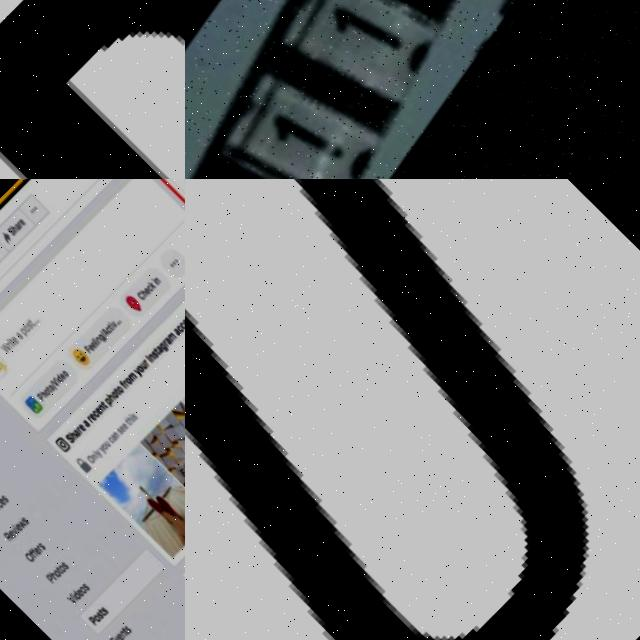1: (303, 0, 423, 88), (243, 89, 352, 179)
A: (11, 330, 21, 340), (160, 336, 169, 346), (11, 222, 20, 231), (68, 428, 77, 437), (78, 419, 87, 428), (152, 345, 161, 354), (170, 327, 179, 336), (97, 327, 106, 336), (105, 433, 114, 441)
C: (133, 290, 143, 300), (172, 324, 182, 334), (175, 321, 185, 330), (100, 325, 109, 334), (87, 409, 96, 418), (143, 284, 151, 293), (103, 436, 111, 443)
D: (0, 0, 185, 179), (65, 590, 76, 600), (50, 372, 60, 382)
E: (89, 406, 100, 416), (8, 522, 18, 532), (73, 422, 83, 432), (84, 412, 94, 422), (2, 529, 11, 538), (27, 546, 36, 555), (86, 340, 95, 349), (117, 422, 126, 431), (7, 336, 17, 344), (70, 588, 78, 597), (55, 372, 63, 381), (114, 424, 122, 433), (110, 632, 118, 640), (16, 218, 24, 226), (84, 344, 92, 352), (140, 287, 148, 295), (102, 636, 112, 640)
F: (79, 344, 89, 354), (114, 380, 124, 390), (22, 549, 32, 558), (24, 548, 33, 556)
G: (155, 342, 166, 352), (94, 333, 103, 342)
H: (101, 392, 112, 402), (64, 430, 74, 440), (44, 570, 53, 579), (35, 389, 44, 398), (8, 224, 16, 232), (137, 288, 145, 296), (122, 416, 130, 424)
I: (2, 338, 11, 347), (64, 592, 72, 602), (6, 524, 15, 532), (88, 336, 97, 344), (141, 354, 149, 363), (49, 376, 56, 383), (124, 414, 131, 421), (104, 322, 112, 328), (148, 278, 155, 284)
K: (144, 280, 152, 288)
L: (87, 338, 95, 345), (88, 450, 95, 458)
M: (164, 332, 174, 342), (124, 372, 133, 381)
N: (144, 353, 153, 362), (91, 336, 100, 344), (94, 403, 102, 412), (113, 630, 121, 638), (86, 453, 94, 460), (151, 276, 158, 283), (108, 432, 115, 438)
O: (18, 551, 30, 562), (18, 323, 29, 333), (81, 454, 92, 464), (120, 376, 130, 386), (132, 364, 142, 374), (106, 389, 116, 398), (47, 568, 56, 577), (43, 383, 52, 392), (57, 368, 65, 378), (112, 384, 120, 394), (52, 564, 61, 572), (73, 585, 81, 594), (87, 613, 95, 622), (39, 388, 47, 397), (178, 317, 185, 327), (97, 442, 105, 450)
P: (31, 391, 42, 402), (39, 574, 49, 584), (82, 616, 92, 626), (16, 327, 26, 337), (100, 396, 110, 406)
R: (83, 414, 91, 424), (117, 380, 126, 388), (158, 339, 166, 348), (0, 531, 7, 541), (14, 220, 22, 228), (71, 426, 79, 434), (139, 359, 147, 367), (31, 544, 38, 552), (2, 342, 10, 349)
S: (60, 433, 72, 444), (146, 349, 157, 359), (32, 541, 41, 550), (55, 560, 63, 570), (76, 582, 84, 592), (90, 610, 98, 620), (118, 624, 126, 634), (5, 227, 13, 236), (22, 321, 31, 329), (126, 412, 135, 420), (16, 516, 24, 524), (95, 606, 103, 614), (0, 494, 4, 503), (113, 428, 119, 434)
T: (4, 337, 14, 346), (23, 318, 33, 327), (149, 346, 158, 356), (49, 565, 58, 574), (102, 322, 111, 330), (96, 399, 104, 408), (109, 387, 117, 396), (92, 608, 100, 616), (41, 385, 49, 393), (120, 418, 128, 426), (115, 627, 123, 634)
U: (185, 179, 640, 640), (136, 361, 144, 370), (181, 314, 185, 323), (100, 441, 106, 447)
V: (60, 594, 71, 604), (46, 377, 57, 387), (5, 526, 13, 536), (107, 320, 115, 328), (107, 635, 115, 640)
W: (12, 519, 21, 528), (0, 342, 7, 353)
Y: (130, 368, 140, 377), (90, 449, 99, 458), (94, 446, 102, 454)
